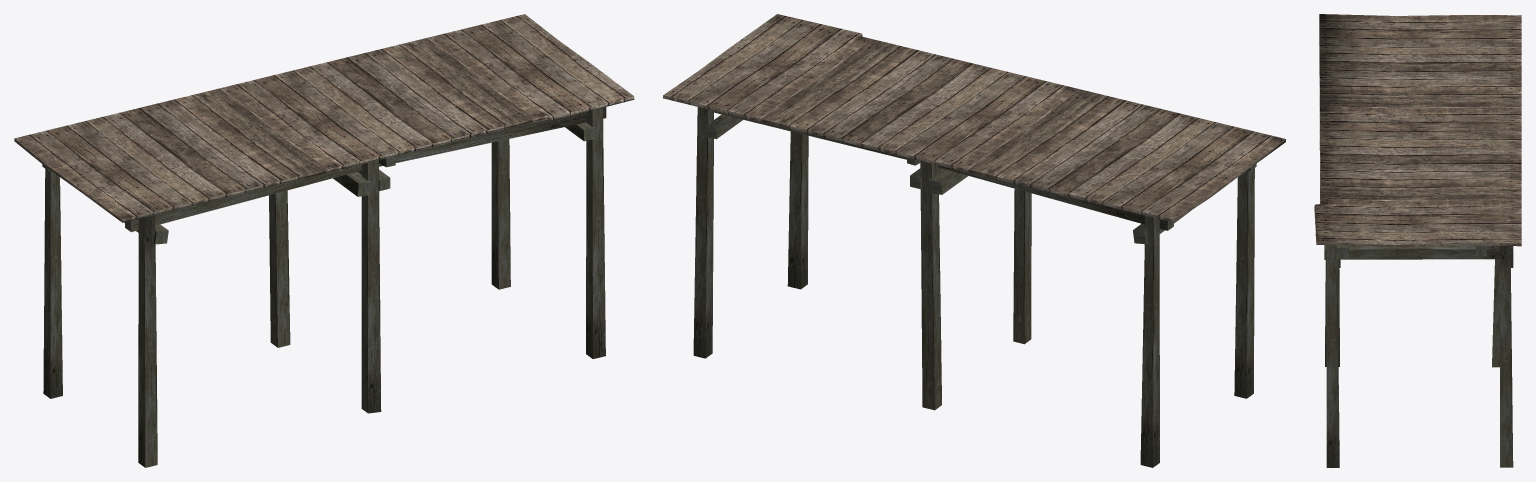
The model's file is d_sg_shouyou_gaojia01_qt.FBX.
3 renders of one model, left to right at view 1: azimuth 30°, elevation 25°; view 2: azimuth 150°, elevation 25°; view 3: azimuth 270°, elevation 25°, orthographic. The views are drawn at different scales.
Parts seen in each view (by area): view 1: d_sg_shouyou_matou01_qt; view 2: d_sg_shouyou_matou01_qt; view 3: d_sg_shouyou_matou01_qt.
Part boxes in pixels (x1=…): d_sg_shouyou_matou01_qt: x1=14, y1=14, x2=634, y2=467; d_sg_shouyou_matou01_qt: x1=663, y1=14, x2=1285, y2=467; d_sg_shouyou_matou01_qt: x1=1314, y1=14, x2=1521, y2=467.
Bounding box in the file's own units: 12.82 × 6.16 × 4.9.
